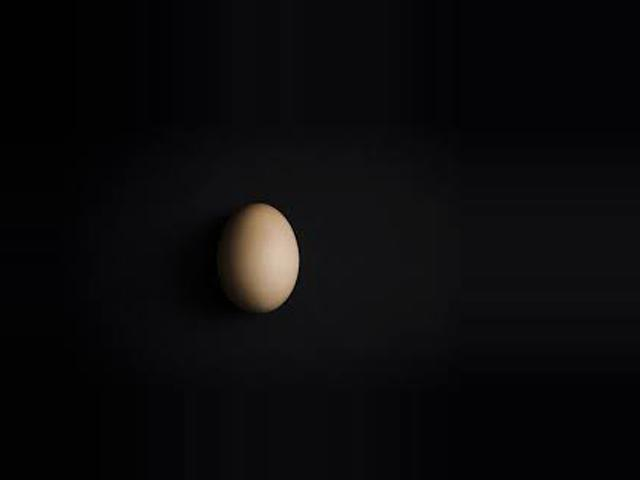egg: (219, 200, 299, 314)
